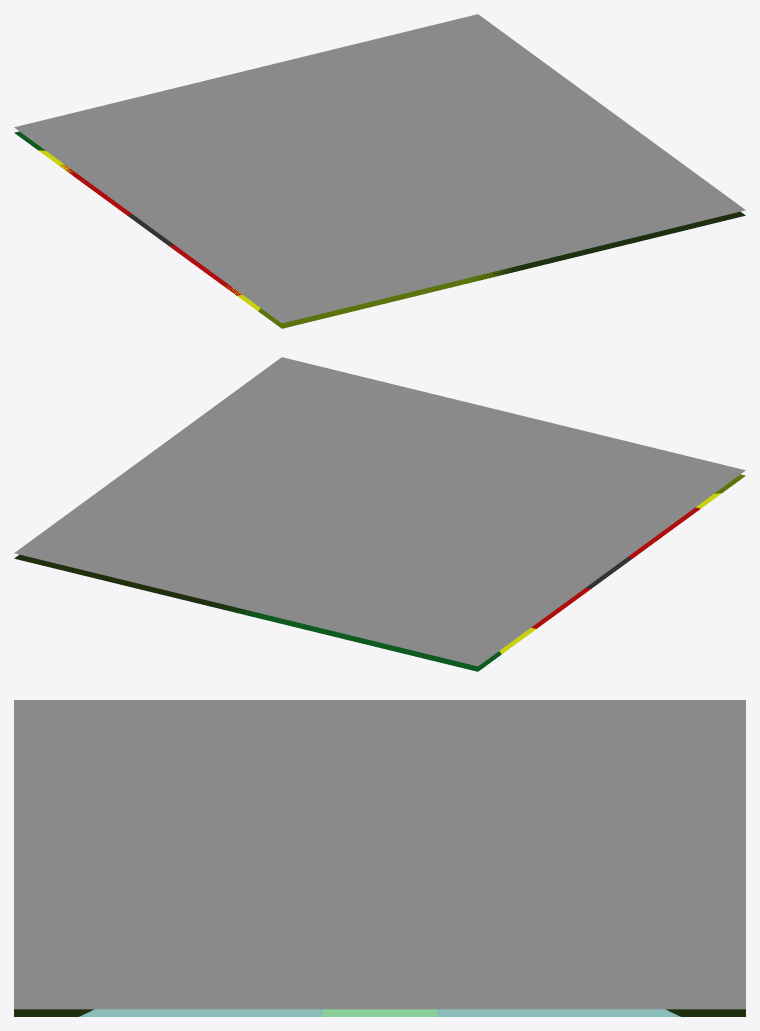
Rendered from RT LINE V01 T08 SNAP.FBX.
3 views of the same model, one above another, from view 1: azimuth 30°, elevation 25°; view 2: azimuth 150°, elevation 25°; view 3: azimuth 270°, elevation 25° (orthographic). The views are drawn at different scales.
Parts seen in each view (by area): view 1: RT LINE V01 T08 SNAP, RT LINE V01 T08, RT LINE V01 NAV Grass.Conc, RT LINE V01 NAV ColAsp C03, RT LINE V01 NAV ColAsp C01-C02; view 2: RT LINE V01 T08 SNAP, RT LINE V01 NAV Grass, RT LINE V01 T08; view 3: RT LINE V01 T08 SNAP, RT LINE V01 T08.
Boxes of the visible parts, bbox=[...] form: RT LINE V01 T08 SNAP: bbox=[14, 14, 745, 323]; RT LINE V01 T08: bbox=[477, 211, 745, 280]; RT LINE V01 NAV Grass.Conc: bbox=[258, 268, 516, 328]; RT LINE V01 NAV ColAsp C03: bbox=[60, 164, 241, 295]; RT LINE V01 NAV ColAsp C01-C02: bbox=[74, 175, 228, 285]; RT LINE V01 T08 SNAP: bbox=[14, 357, 745, 666]; RT LINE V01 NAV Grass: bbox=[214, 606, 501, 671]; RT LINE V01 T08: bbox=[14, 554, 262, 618]; RT LINE V01 T08 SNAP: bbox=[14, 700, 745, 1009]; RT LINE V01 T08: bbox=[14, 1009, 745, 1016].
Size of the model in its own units: 90 by 1 by 90.
